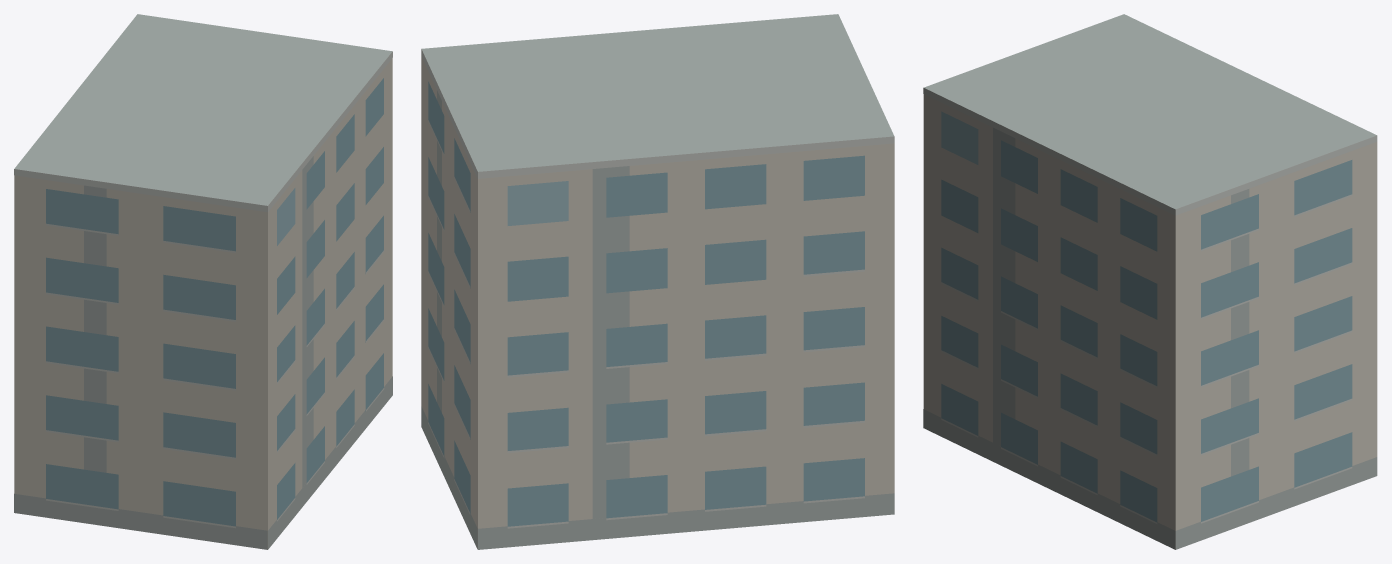
File: survey-upis-32889568.glb
3 renders of one model, left to right at view 1: azimuth 30°, elevation 25°; view 2: azimuth 150°, elevation 25°; view 3: azimuth 270°, elevation 25°, orthographic. The views are drawn at different scales.
Visible parts, largest first — view 1: survey-upis-32889568.tmp; view 2: survey-upis-32889568.tmp; view 3: survey-upis-32889568.tmp.
Boxes of the visible parts, x1=… form: survey-upis-32889568.tmp: x1=14, y1=14, x2=392, y2=549; survey-upis-32889568.tmp: x1=421, y1=14, x2=894, y2=549; survey-upis-32889568.tmp: x1=923, y1=14, x2=1377, y2=549.
Size of the model in its own units: 16.26 by 13.2 by 15.95.
